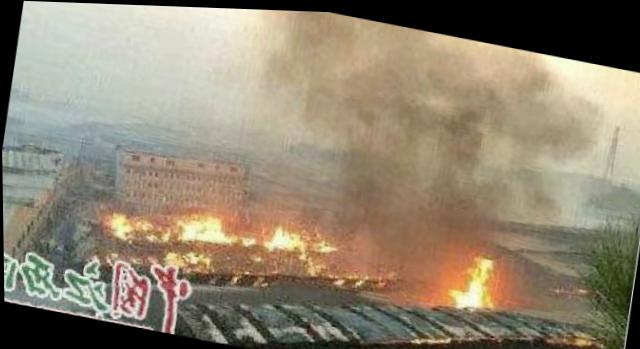fire: (178, 206, 260, 249), (449, 244, 503, 308), (263, 217, 332, 259), (105, 208, 172, 245), (168, 245, 214, 271)
smoke: (252, 7, 604, 227)
